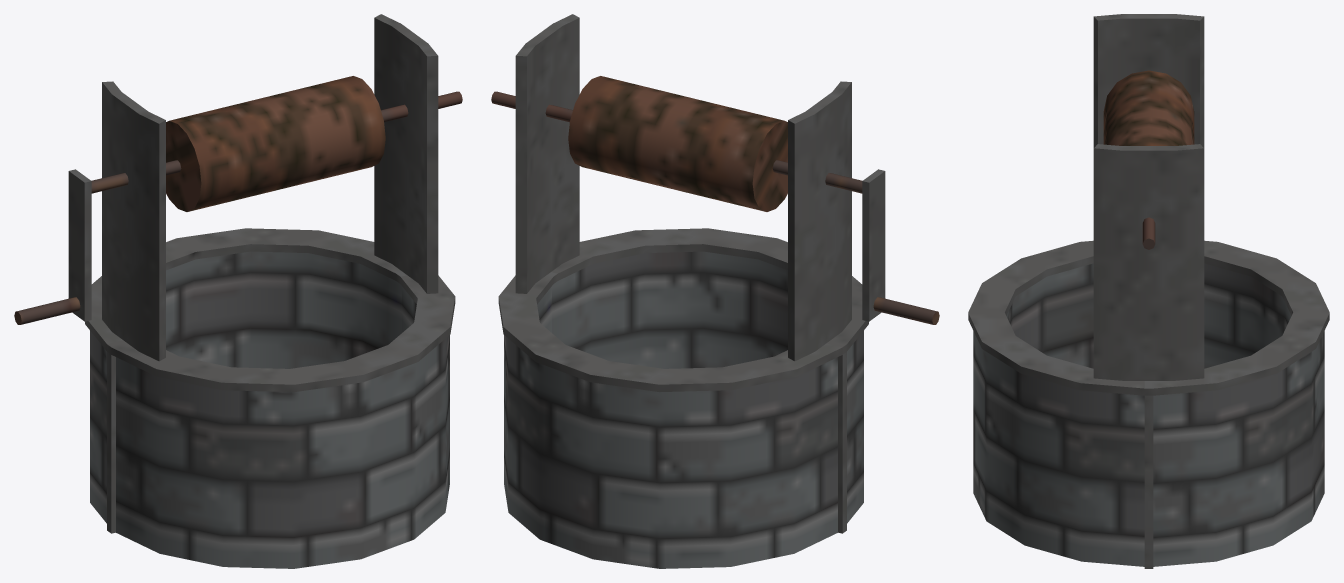
File: Well1.fbx
The picture shows the model from 3 angles, left to right: view 1: azimuth 30°, elevation 25°; view 2: azimuth 150°, elevation 25°; view 3: azimuth 270°, elevation 25°; orthographic projection. The views are drawn at different scales.
Visible parts, largest first — view 1: Well1; view 2: Well1; view 3: Well1.
Boxes of the visible parts, box(x1,y1,x2,y2) form: Well1: box(14, 14, 462, 568); Well1: box(491, 14, 939, 568); Well1: box(968, 14, 1329, 568).
Size of the model in its own units: 176 by 162 by 129.
1 material, 1 textured.
